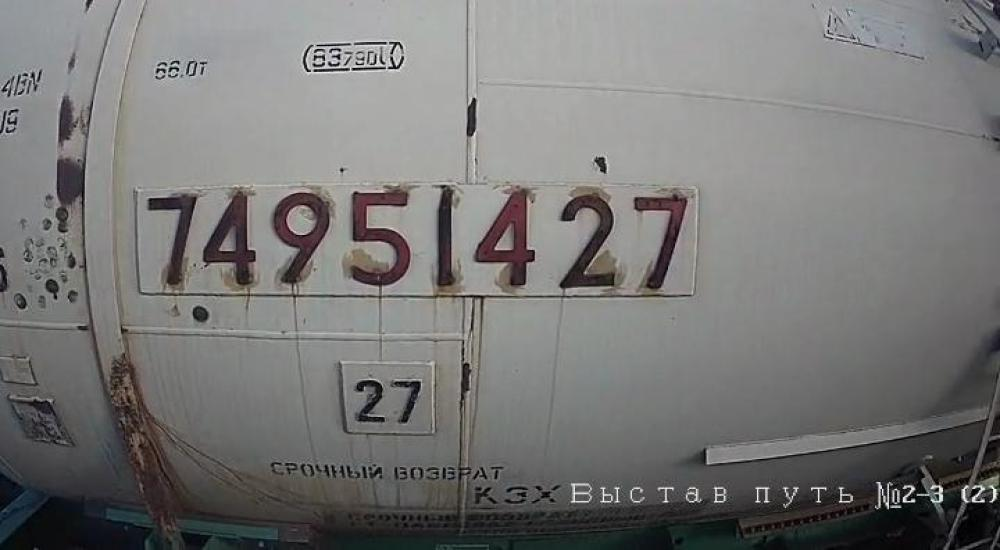Wagon-number: (140, 180, 692, 300)
